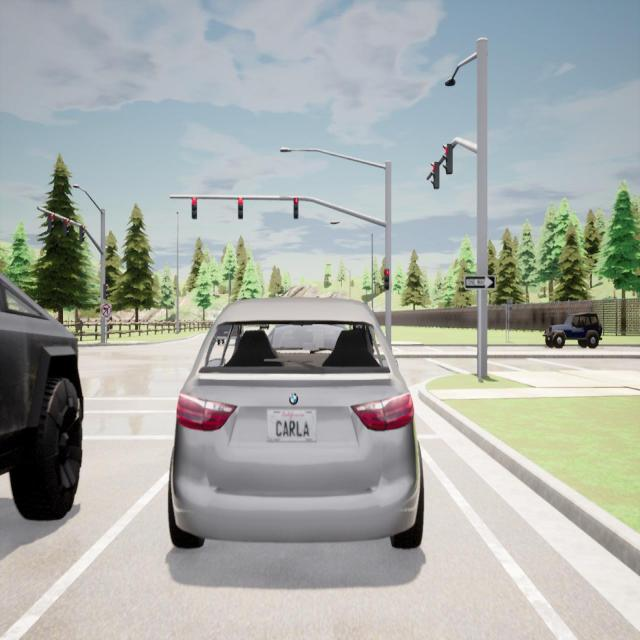Traffic_Signs: (465, 276, 496, 288), (102, 304, 112, 317)
Vehicle: (168, 298, 424, 548), (0, 269, 84, 521), (542, 312, 603, 349)
traffic_light: (442, 144, 453, 174), (430, 161, 439, 189), (191, 197, 197, 220), (48, 213, 55, 232), (63, 218, 70, 237), (293, 197, 299, 219), (384, 269, 390, 290), (238, 198, 243, 220), (80, 225, 85, 242), (103, 284, 108, 299)
